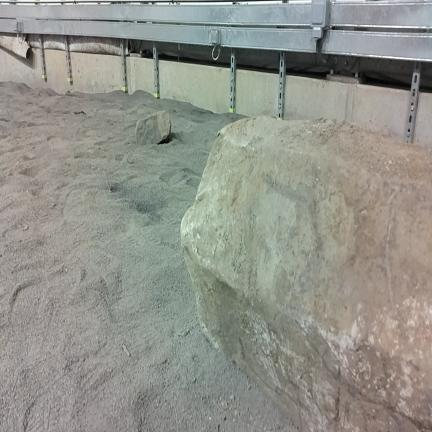Rock: (181, 118, 431, 431), (135, 111, 171, 144)
